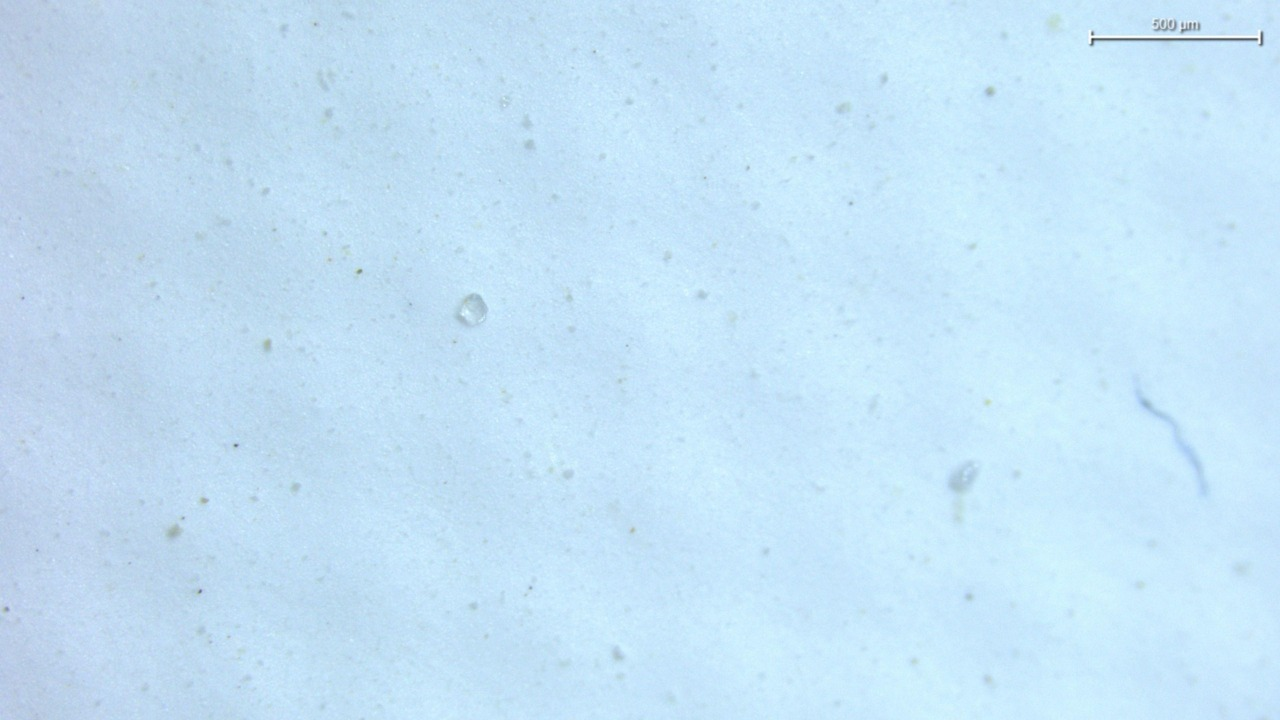microplastic_fragment: (455, 293, 487, 326)
